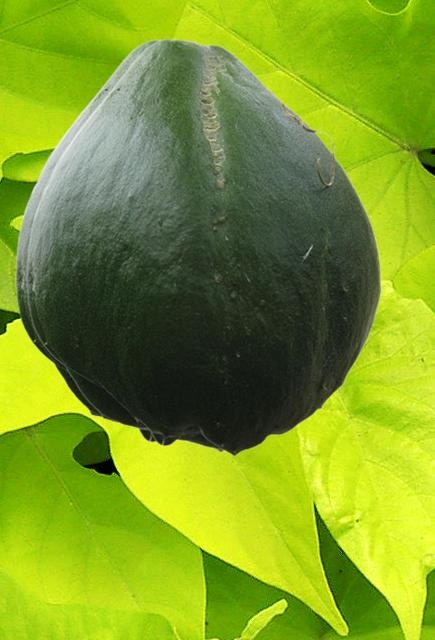sayote: (26, 38, 380, 456), (15, 39, 224, 452)
